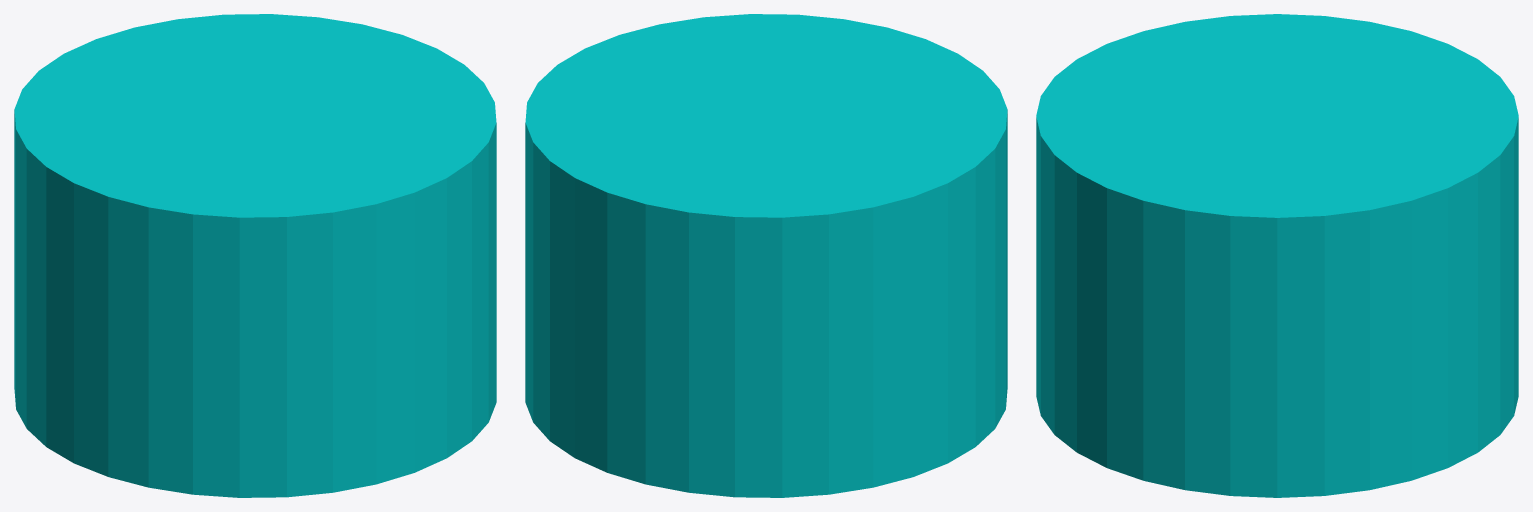
The model's file is griper_base_mesh.dae.
3 views of the same model, side by side, from view 1: azimuth 30°, elevation 25°; view 2: azimuth 150°, elevation 25°; view 3: azimuth 270°, elevation 25° (orthographic).
Parts seen in each view (by area): view 1: griper_base_001; view 2: griper_base_001; view 3: griper_base_001.
Part boxes in pixels (x1,y1,x2,y2): griper_base_001: (14,14,496,497); griper_base_001: (525,14,1007,497); griper_base_001: (1036,14,1518,497).
Size of the model in its own units: 2 by 2 by 1.28.
